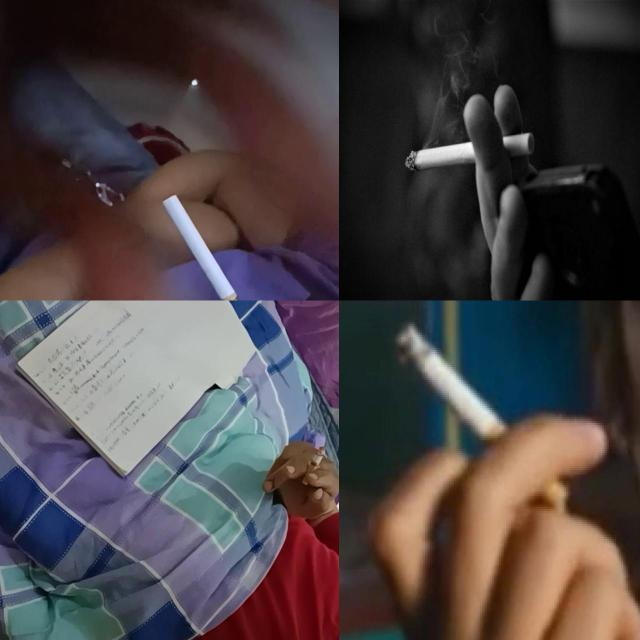smoking: (397, 321, 567, 513), (163, 192, 259, 300), (405, 132, 535, 172), (302, 448, 324, 487)
